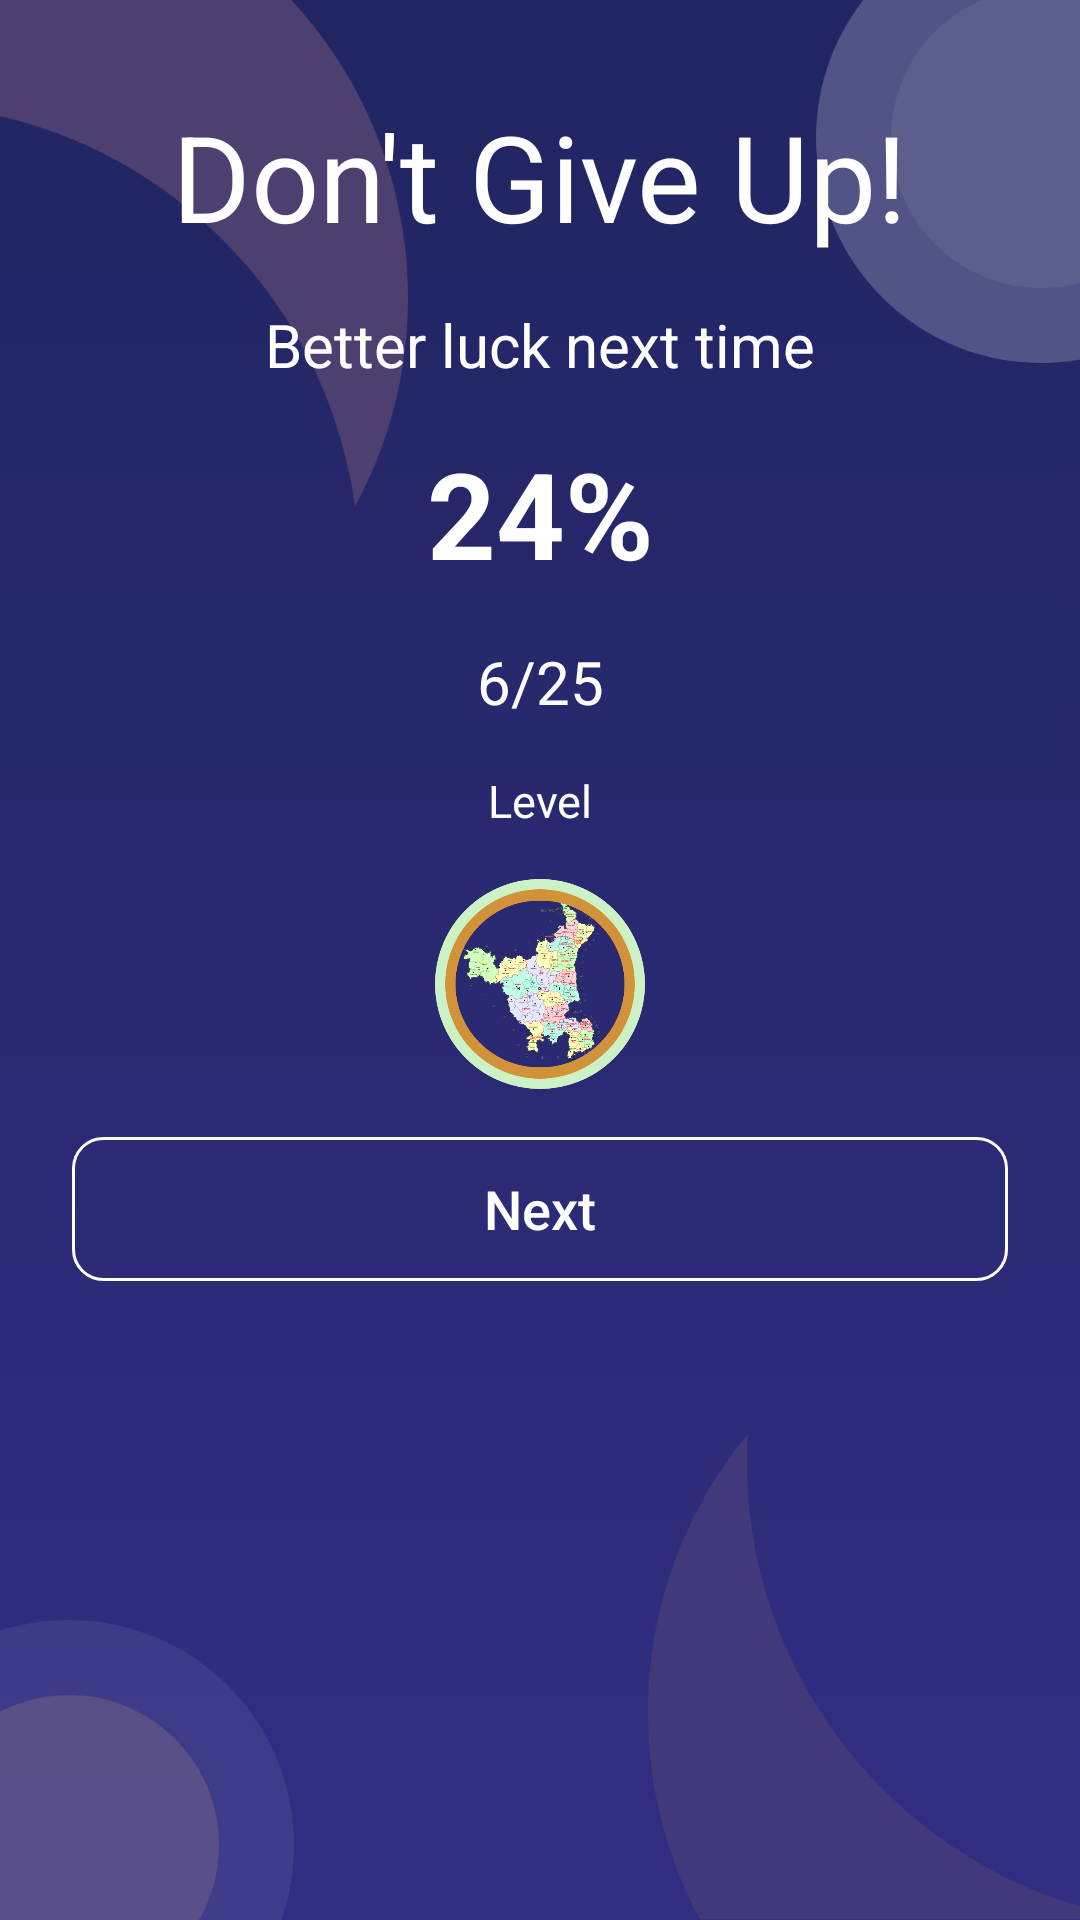

Where to tap for icons on this 1080 × 1920 app screen, as point (x, y):
haryana map: point (540, 984)
